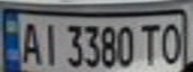0: (115, 21, 139, 69)
3: (60, 20, 84, 69), (81, 21, 100, 70)
8: (100, 21, 121, 69)
A: (18, 18, 42, 65)
I: (36, 19, 60, 66)
O: (157, 18, 187, 66)
T: (136, 20, 163, 68)
